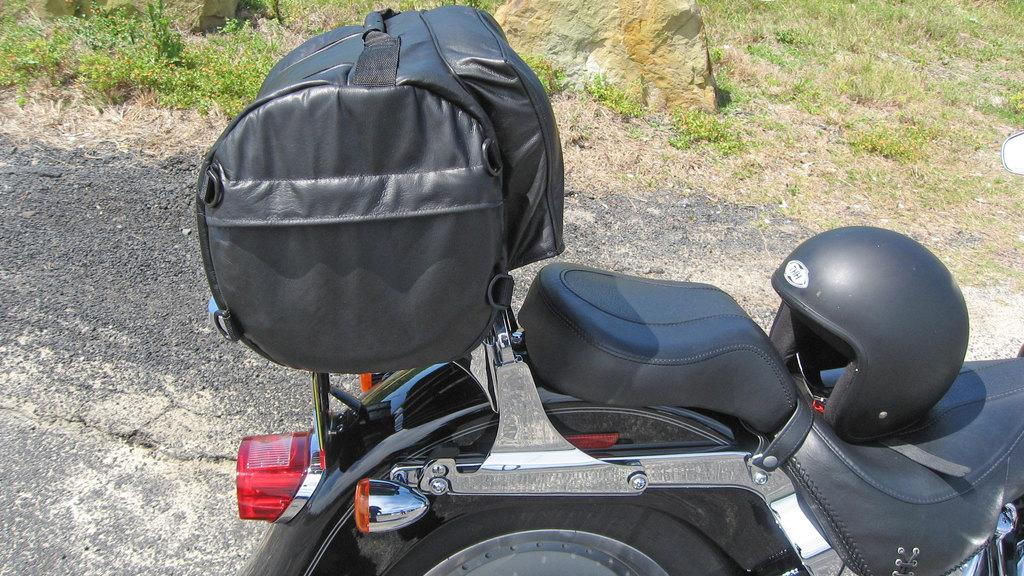helmet: (762, 226, 970, 443)
